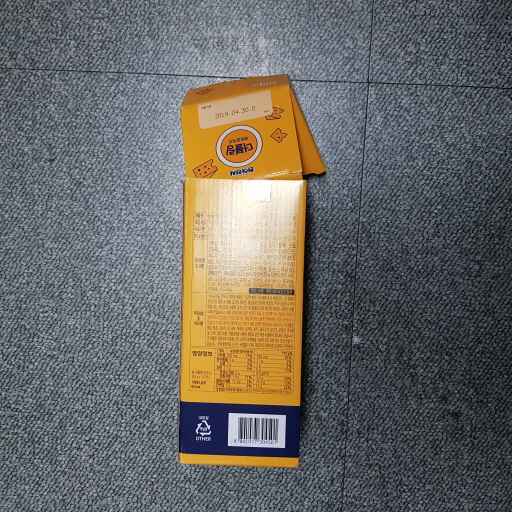Paper_0: (166, 60, 341, 483)
